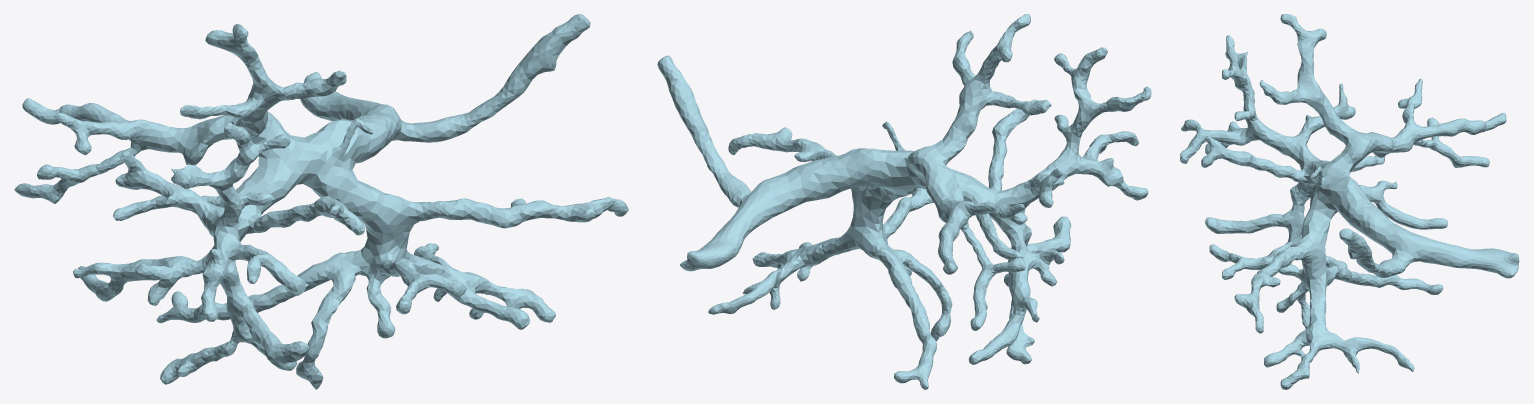
The model's file is portalvein.obj.
3 renders of one model, left to right at view 1: azimuth 30°, elevation 25°; view 2: azimuth 150°, elevation 25°; view 3: azimuth 270°, elevation 25°, orthographic. The views are drawn at different scales.
Parts seen in each view (by area): view 1: grp1; view 2: grp1; view 3: grp1.
Part boxes in pixels (x1=…): grp1: x1=14, y1=14, x2=628, y2=389; grp1: x1=657, y1=14, x2=1151, y2=389; grp1: x1=1180, y1=14, x2=1519, y2=389.
Bounding box in the file's own units: 159 × 121 × 130.
